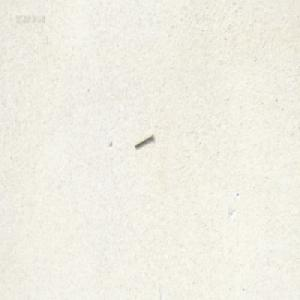Bolt: (134, 131, 154, 148)
